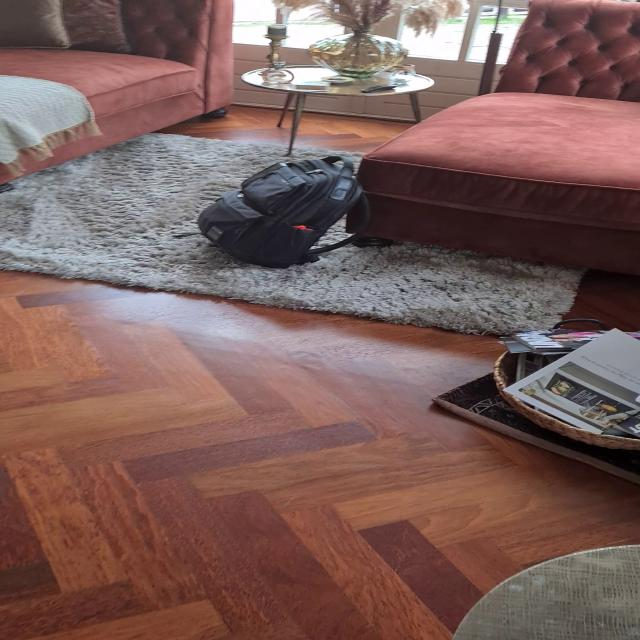backpack: (191, 149, 377, 273)
